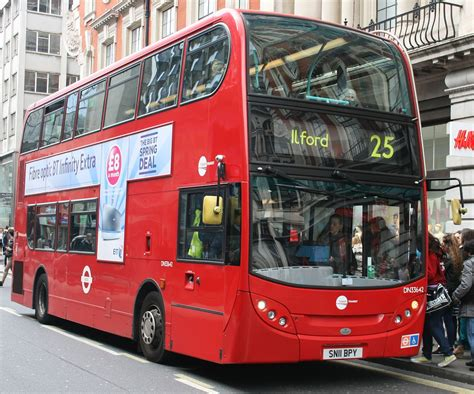bus: (20, 14, 423, 370)
